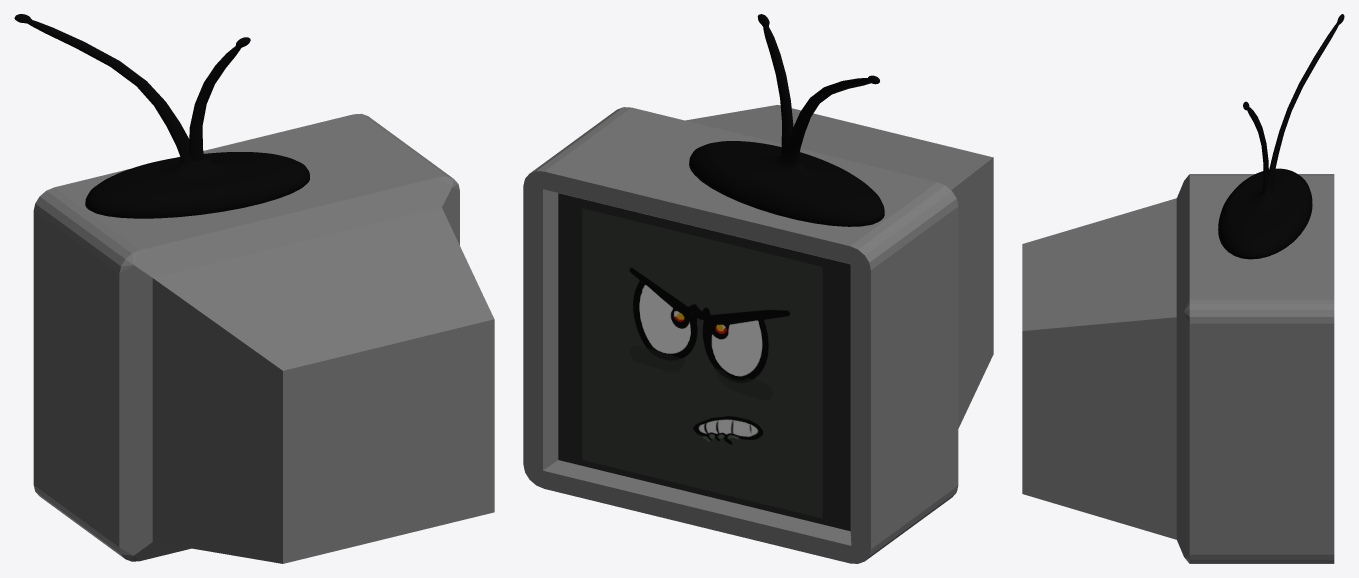
3 views of the same model, side by side, from view 1: azimuth 30°, elevation 25°; view 2: azimuth 150°, elevation 25°; view 3: azimuth 270°, elevation 25° (orthographic). The views are drawn at different scales.
Parts seen in each view (by area): view 1: Monitor, Antennae; view 2: Monitor, tv_face_img, Antennae; view 3: Monitor, Antennae.
Boxes of the visible parts, x1=… form: Monitor: x1=33, y1=113, x2=494, y2=563; Antennae: x1=14, y1=14, x2=309, y2=218; Monitor: x1=523, y1=105, x2=993, y2=563; tv_face_img: x1=582, y1=208, x2=822, y2=518; Antennae: x1=689, y1=14, x2=884, y2=226; Monitor: x1=1022, y1=174, x2=1334, y2=563; Antennae: x1=1218, y1=14, x2=1344, y2=259.
Size of the model in its own units: 2.39 by 3.14 by 2.22.
4 materials, 1 textured.
